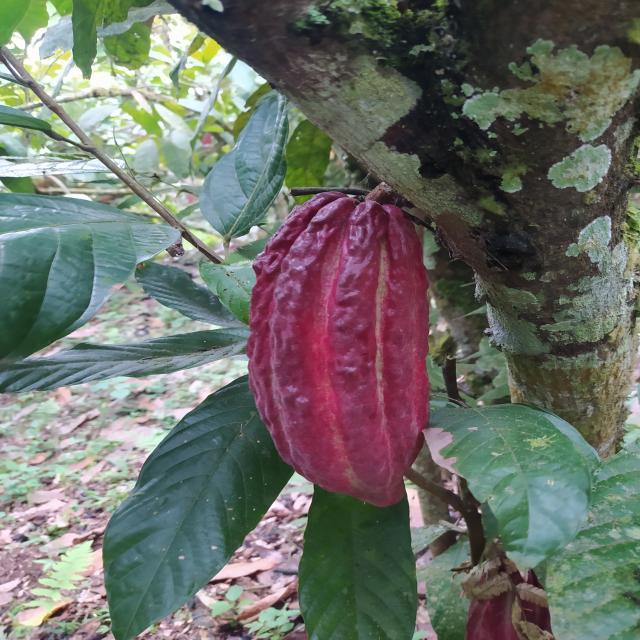Sana: (248, 190, 435, 505)
